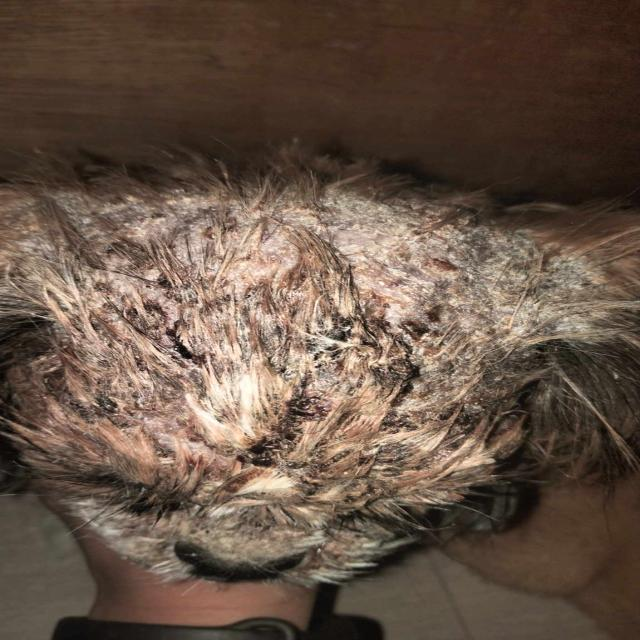demodicosis: (78, 211, 495, 438)
